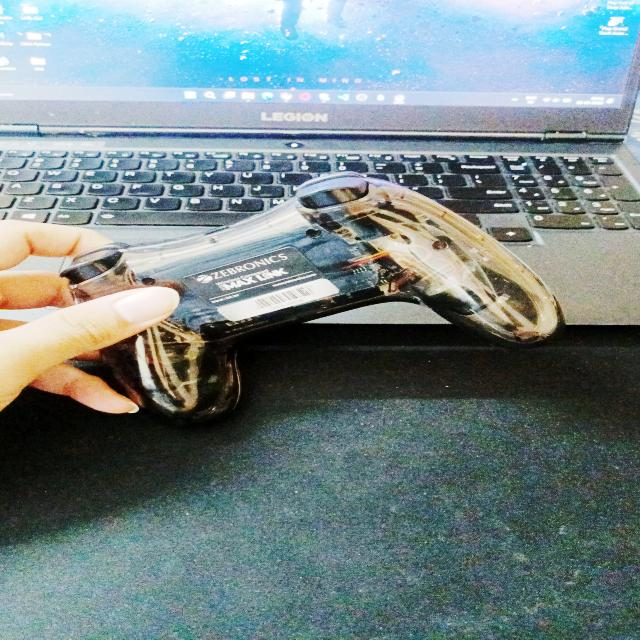gamepad: (55, 172, 565, 424)
